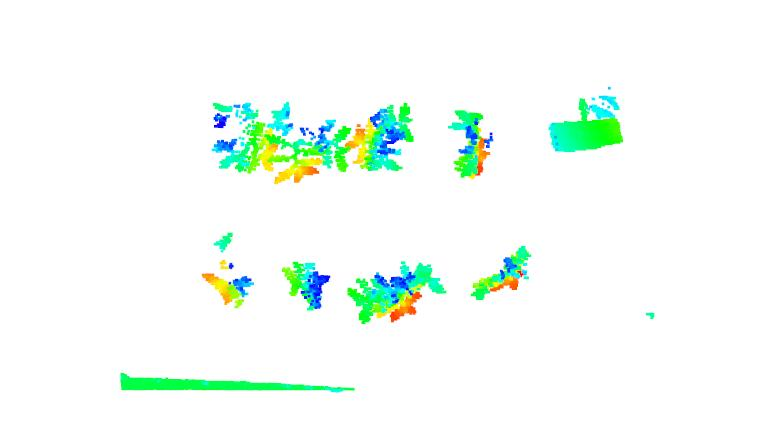chickpea: (343, 262, 450, 327), (271, 101, 349, 186), (349, 102, 417, 175), (213, 102, 276, 174), (198, 233, 254, 307), (446, 107, 494, 182), (470, 245, 532, 301), (279, 259, 334, 314)
